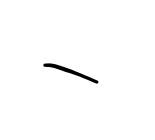minus: (42, 60, 101, 87)
